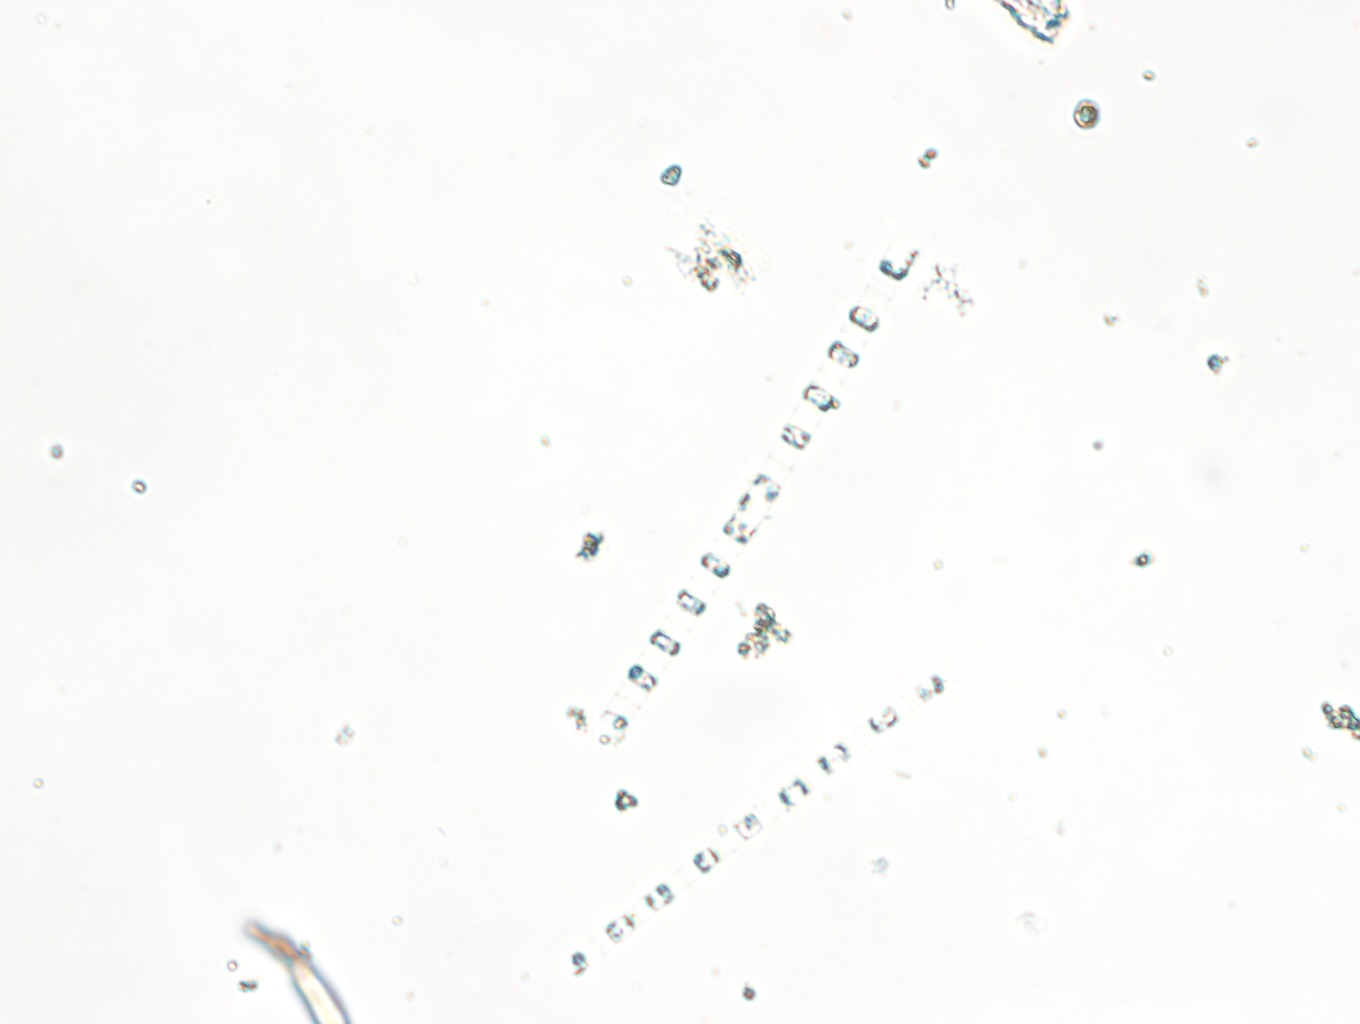skeletonema: (562, 237, 926, 753), (519, 664, 950, 982)
